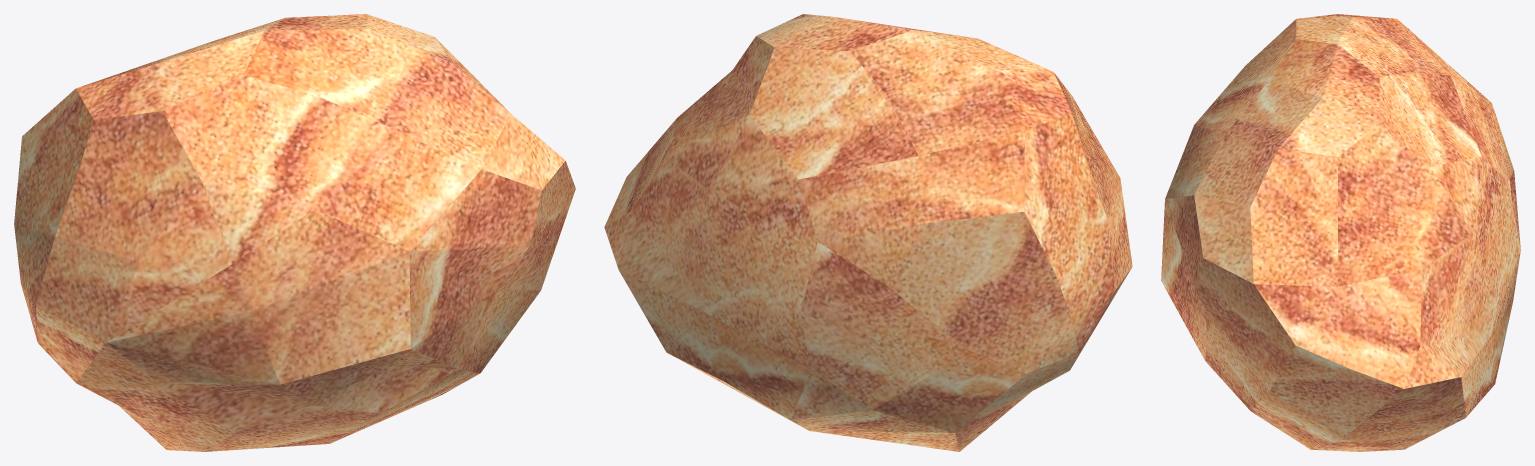
Rendered from boulder-sm-1n.glb.
The picture shows the model from 3 angles, left to right: view 1: azimuth 30°, elevation 25°; view 2: azimuth 150°, elevation 25°; view 3: azimuth 270°, elevation 25°; orthographic projection. The views are drawn at different scales.
Visible parts, largest first — view 1: Dodecahedron_n3d; view 2: Dodecahedron_n3d; view 3: Dodecahedron_n3d.
Boxes of the visible parts, <box> form: Dodecahedron_n3d: <box>14,14,575,451</box>; Dodecahedron_n3d: <box>604,14,1132,451</box>; Dodecahedron_n3d: <box>1161,14,1520,451</box>.
Size of the model in its own units: 0.1641 by 0.1284 by 0.1129.
1 material, 1 textured.
